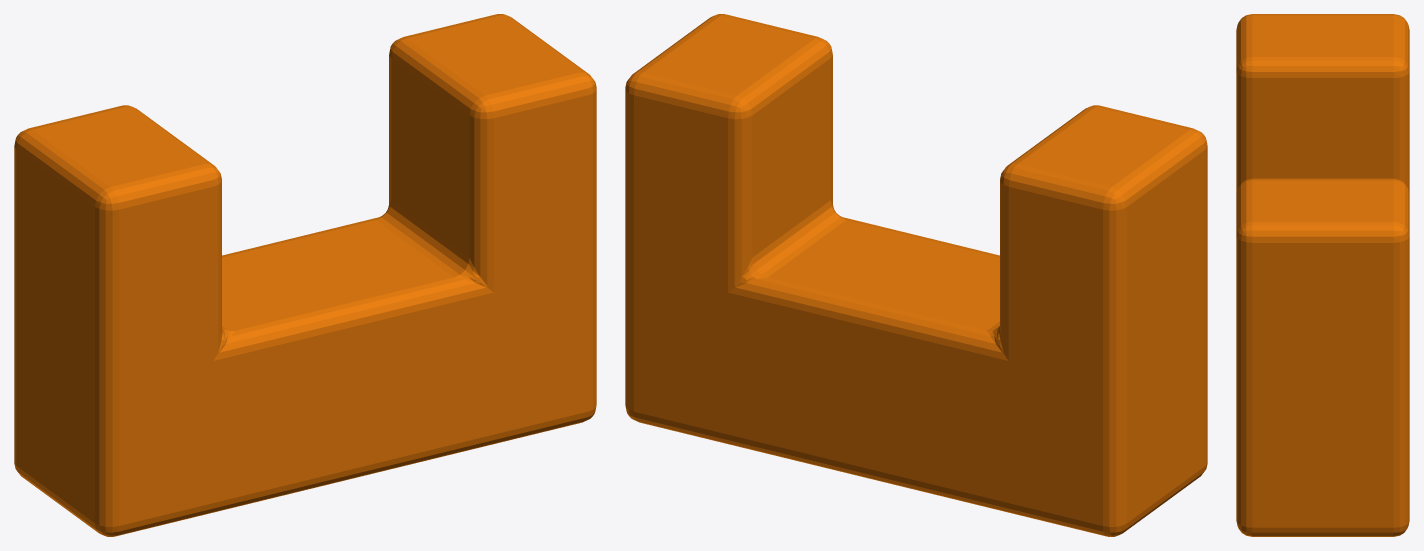
Rendered from Coison.fbx.
3 views of the same model, side by side, from view 1: azimuth 30°, elevation 25°; view 2: azimuth 150°, elevation 25°; view 3: azimuth 270°, elevation 25° (orthographic). The views are drawn at different scales.
Parts seen in each view (by area): view 1: Coison; view 2: Coison; view 3: Coison.
Part boxes in pixels (x1=…): Coison: x1=14, y1=14, x2=596, y2=536; Coison: x1=625, y1=14, x2=1207, y2=536; Coison: x1=1236, y1=14, x2=1409, y2=536.
Bounding box in the file's own units: 600 × 400 × 200.
